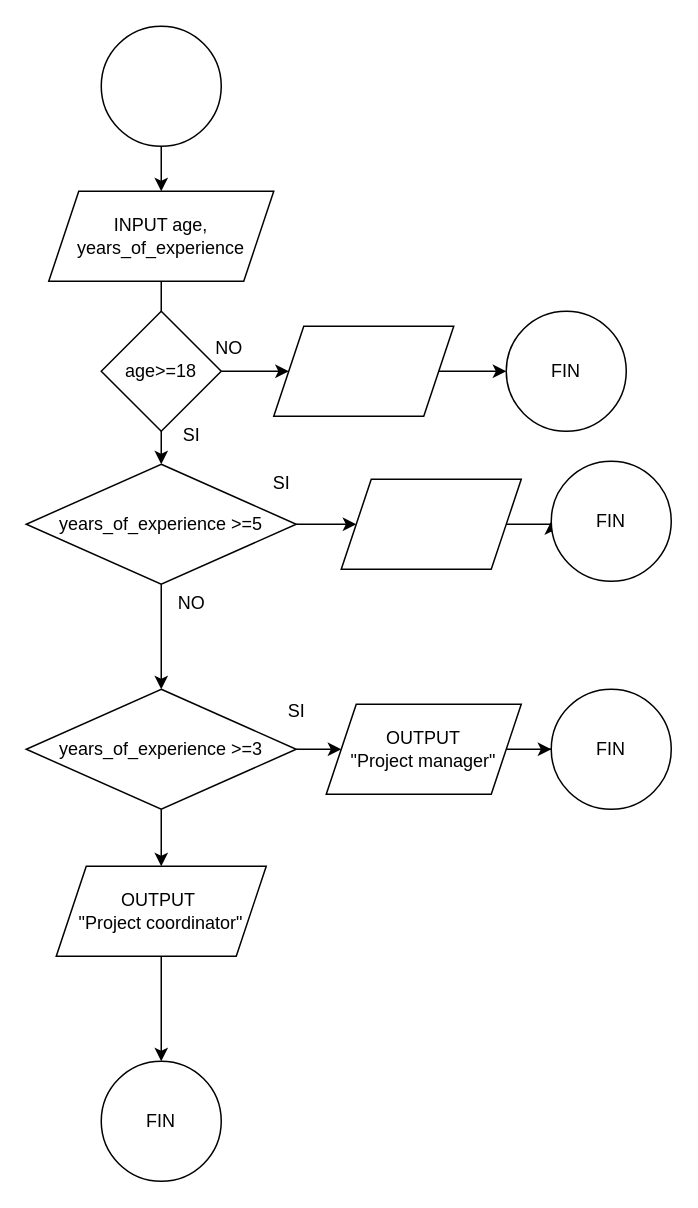
This 698x1208 diagram has some shape labels left out. Each missing label, with the centre of its shape:
INICIO: [160,85]
OUTPUT "Not eligible": [363,370]
OUTPUT "Senior project manager": [430,523]
